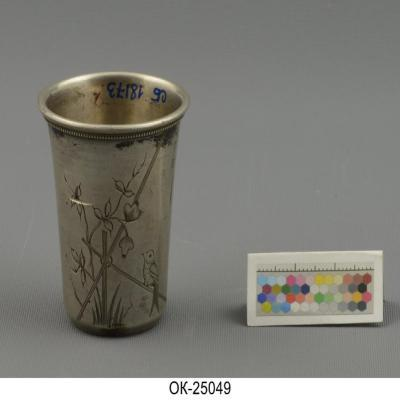dpi: (37, 72, 190, 340)
